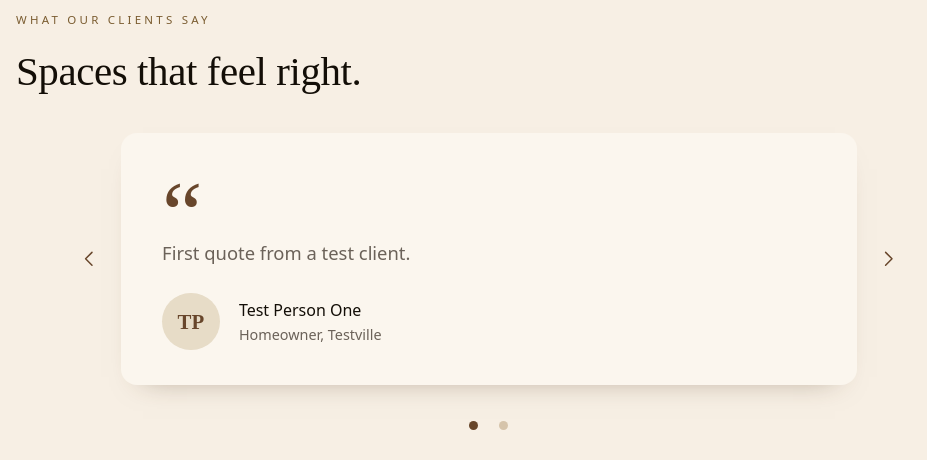
Scenario: Testimonials › moves between testimonials with the arrows and the dots
Expected: the text "First quote from a test client." is shown, [162,240,410,265]
Click the button named "next testimonial" at coordinates (888, 259), box [872,237,904,281]
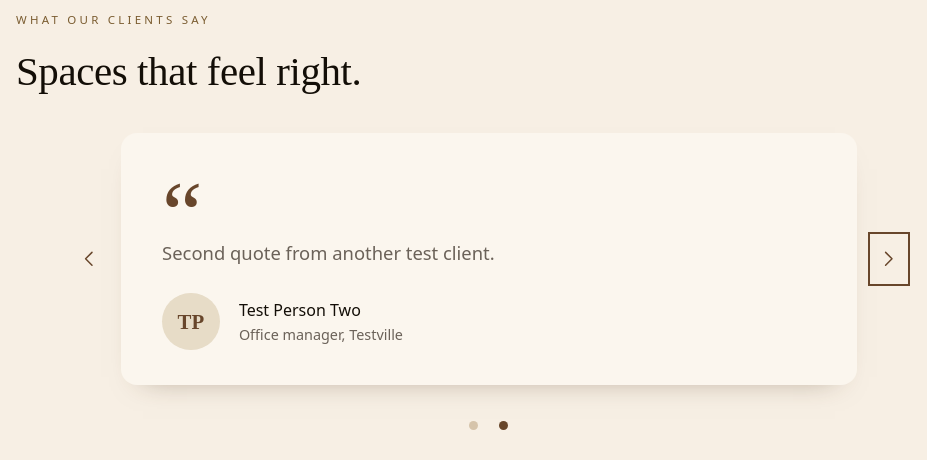
Result: the text "Second quote from another test client." is shown at [162,240,495,265]
Click the button named "next testimonial" at coordinates (888, 259), box [872,237,904,281]
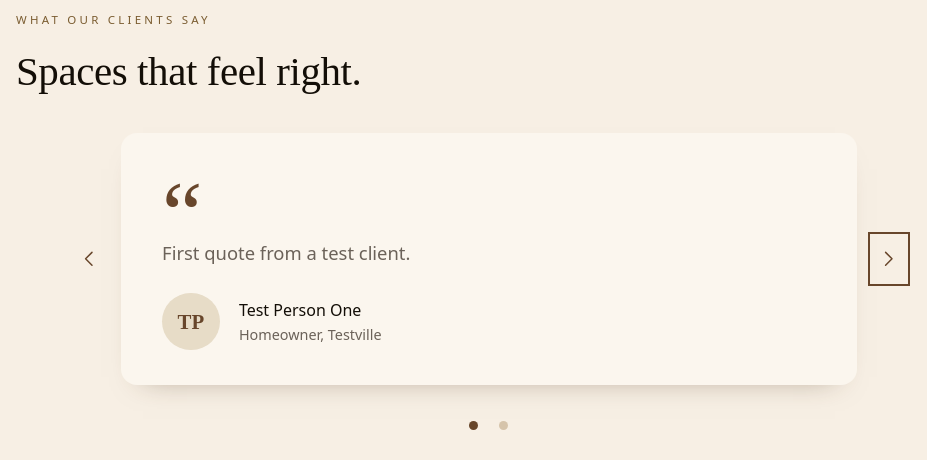
Result: the text "First quote from a test client." is shown at [162,240,410,265]
Click the button named "previous testimonial" at coordinates (88, 259), box [72,237,104,281]
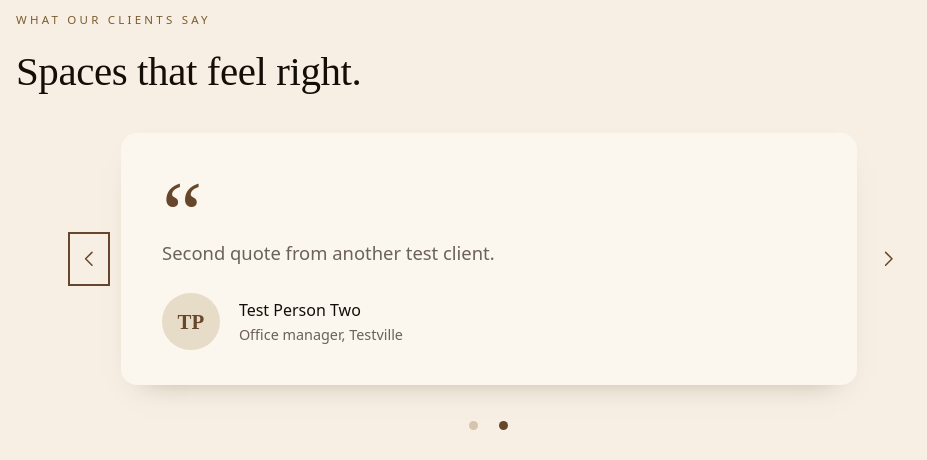
Result: the text "Second quote from another test client." is shown at [162,240,495,265]
Click the button named "show testimonial 1 of 2" at coordinates (473, 426), box [460,413,486,438]
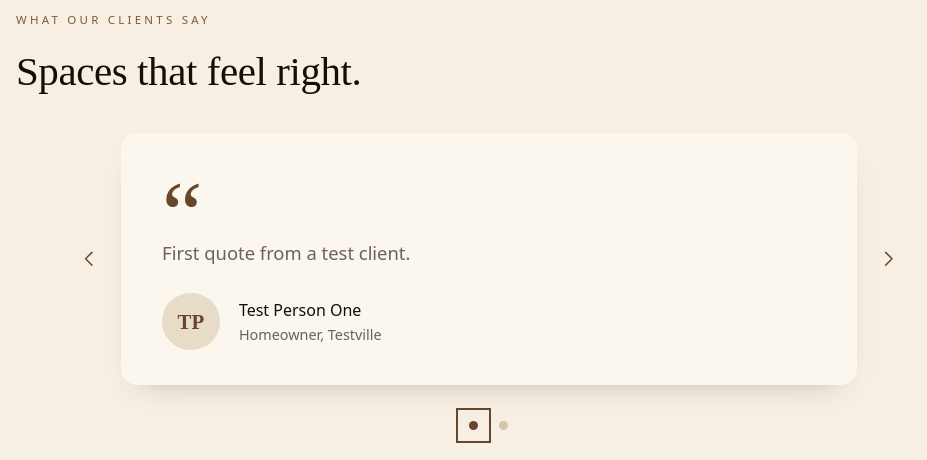
Result: the text "First quote from a test client." is shown at [162,240,410,265]
